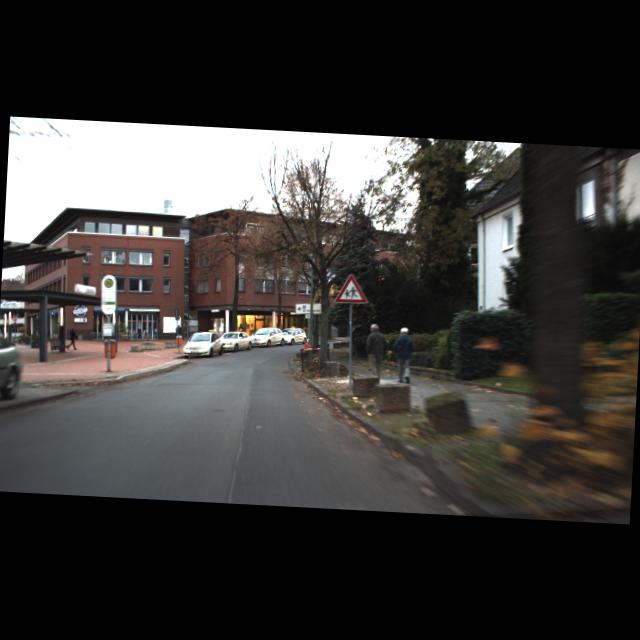danger: (334, 272, 369, 304)
